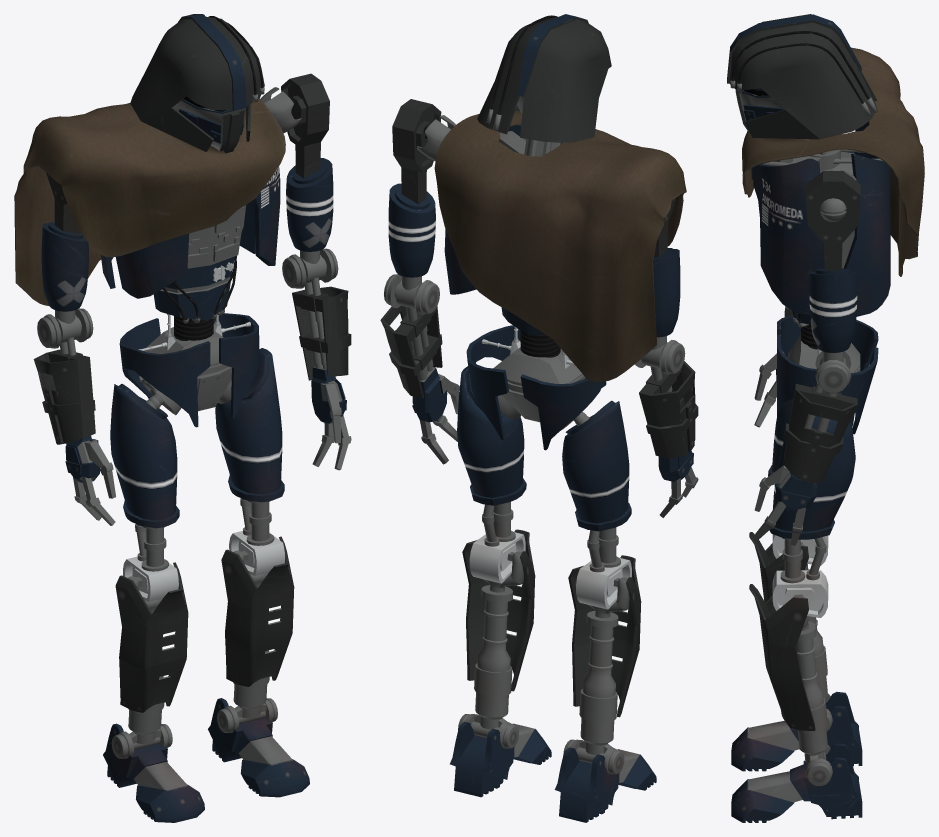
File: andromeda.glb
3 views of the same model, side by side, from view 1: azimuth 30°, elevation 25°; view 2: azimuth 150°, elevation 25°; view 3: azimuth 270°, elevation 25° (orthographic).
Parts seen in each view (by area): view 1: Cape_low, Legarmor_low, Legs1_low, Helmet_low, Shoes_low, ArmArmor1_low, Upperarms2_low, Middlearmor_low, Hands_low, Body_low, Base_low, Upperarms_low (+12 smaller); view 2: Cape_low, Legs1_low, Helmet_low, Legs3_low, Shoes_low, Legarmor_low, ArmArmor1_low, Upperarms2_low, Middlearmor_low, Hands_low, Upperarms_low, Joints2_low (+9 smaller); view 3: Helmet_low, Cape_low, Shoes_low, Body_low, Legarmor_low, Back_low, ArmArmor1_low, Legs1_low, Middlearmor_low, Upperarms2_low, Upperarms_low, Legs3_low (+11 smaller).
Boxes of the visible parts, <box> form: Cape_low: <box>14,98,285,305</box>; Legarmor_low: <box>115,536,294,712</box>; Legs1_low: <box>110,348,284,528</box>; Helmet_low: <box>130,14,264,151</box>; Shoes_low: <box>103,698,309,822</box>; ArmArmor1_low: <box>33,286,351,444</box>; Upperarms2_low: <box>41,158,333,323</box>; Middlearmor_low: <box>119,313,259,427</box>; Hands_low: <box>65,366,351,525</box>; Body_low: <box>115,166,280,298</box>; Base_low: <box>153,205,246,320</box>; Upperarms_low: <box>46,73,329,233</box>; Cape_low: <box>434,111,686,381</box>; Legs1_low: <box>457,366,631,531</box>; Helmet_low: <box>477,14,611,142</box>; Legs3_low: <box>474,551,629,755</box>; Shoes_low: <box>450,722,656,822</box>; Legarmor_low: <box>462,529,641,717</box>; ArmArmor1_low: <box>380,305,698,458</box>; Upperarms2_low: <box>388,183,680,349</box>; Middlearmor_low: <box>466,325,606,450</box>; Hands_low: <box>412,367,698,517</box>; Upperarms_low: <box>392,99,675,257</box>; Joints2_low: <box>469,532,631,609</box>; Helmet_low: <box>727,14,877,139</box>; Cape_low: <box>742,47,924,276</box>; Shoes_low: <box>731,692,862,822</box>; Body_low: <box>751,158,824,314</box>; Legarmor_low: <box>749,532,815,730</box>; Back_low: <box>843,121,890,316</box>; ArmArmor1_low: <box>783,306,857,483</box>; Legs1_low: <box>768,398,855,539</box>; Middlearmor_low: <box>777,315,878,434</box>; Upperarms2_low: <box>809,152,857,362</box>; Upperarms_low: <box>805,171,860,270</box>; Legs3_low: <box>793,542,827,763</box>.
Size of the model in its own units: 0.7496 by 1.84 by 0.4283.
1 material, 1 textured.
